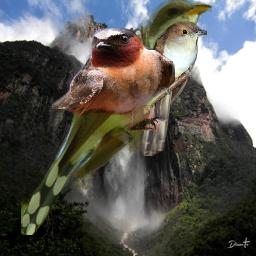Cuckoo: (21, 0, 212, 235), (141, 20, 207, 156)
Swallow: (52, 28, 175, 131)
